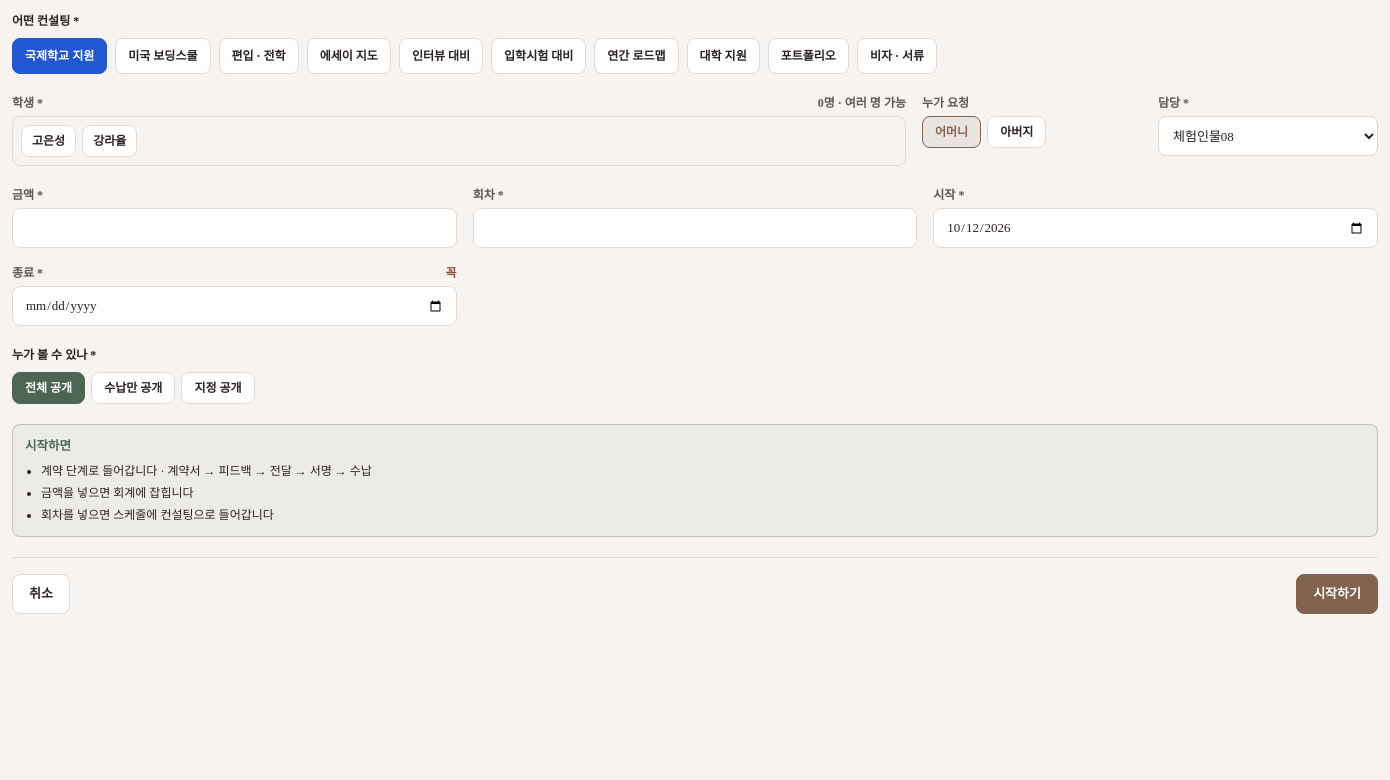
Test: ConsultingStartForm › 학생·날짜 순서·지정 공개 대상을 제출 전에 막는다
In the number field labelled "금액 *": (234, 228) [12, 208, 457, 248], type "1"
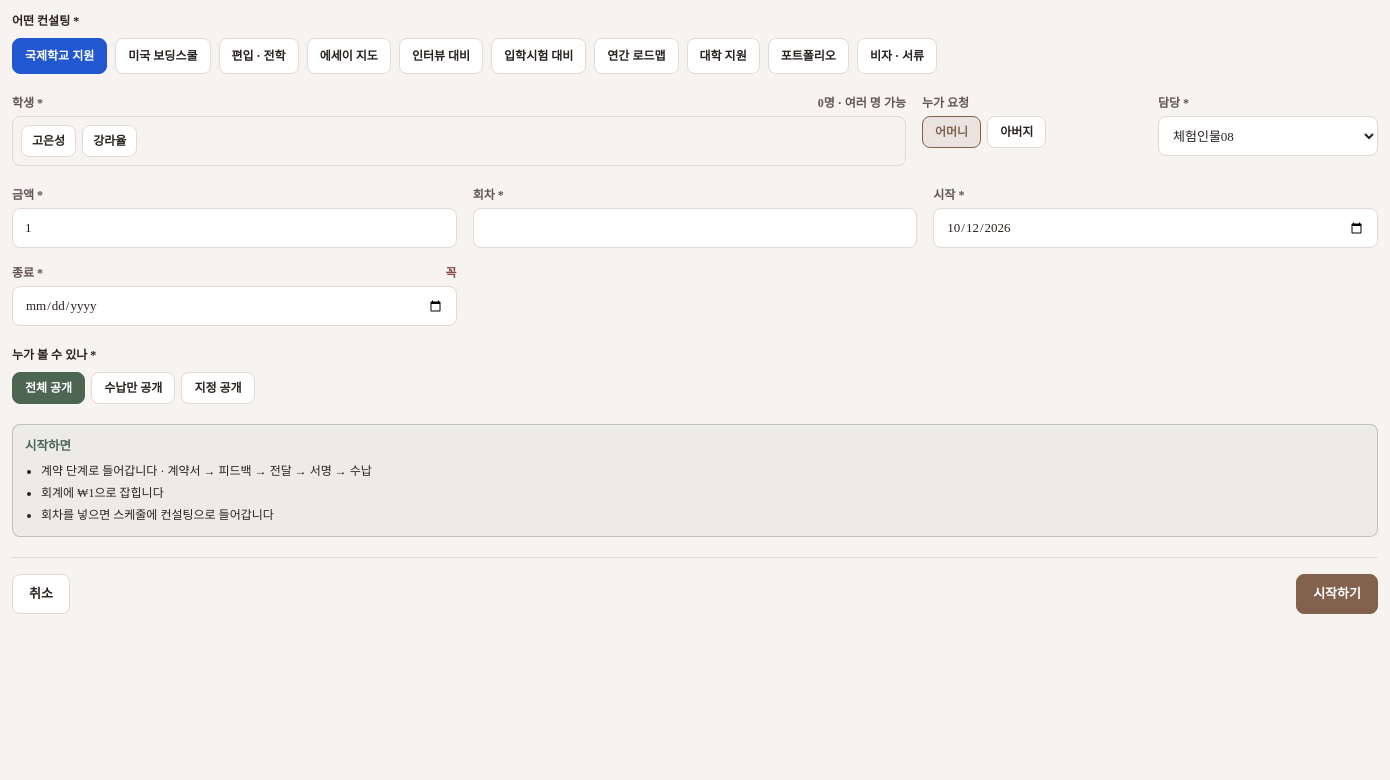
In the number field labelled "회차 *": (695, 228) [473, 208, 917, 248], type "1"
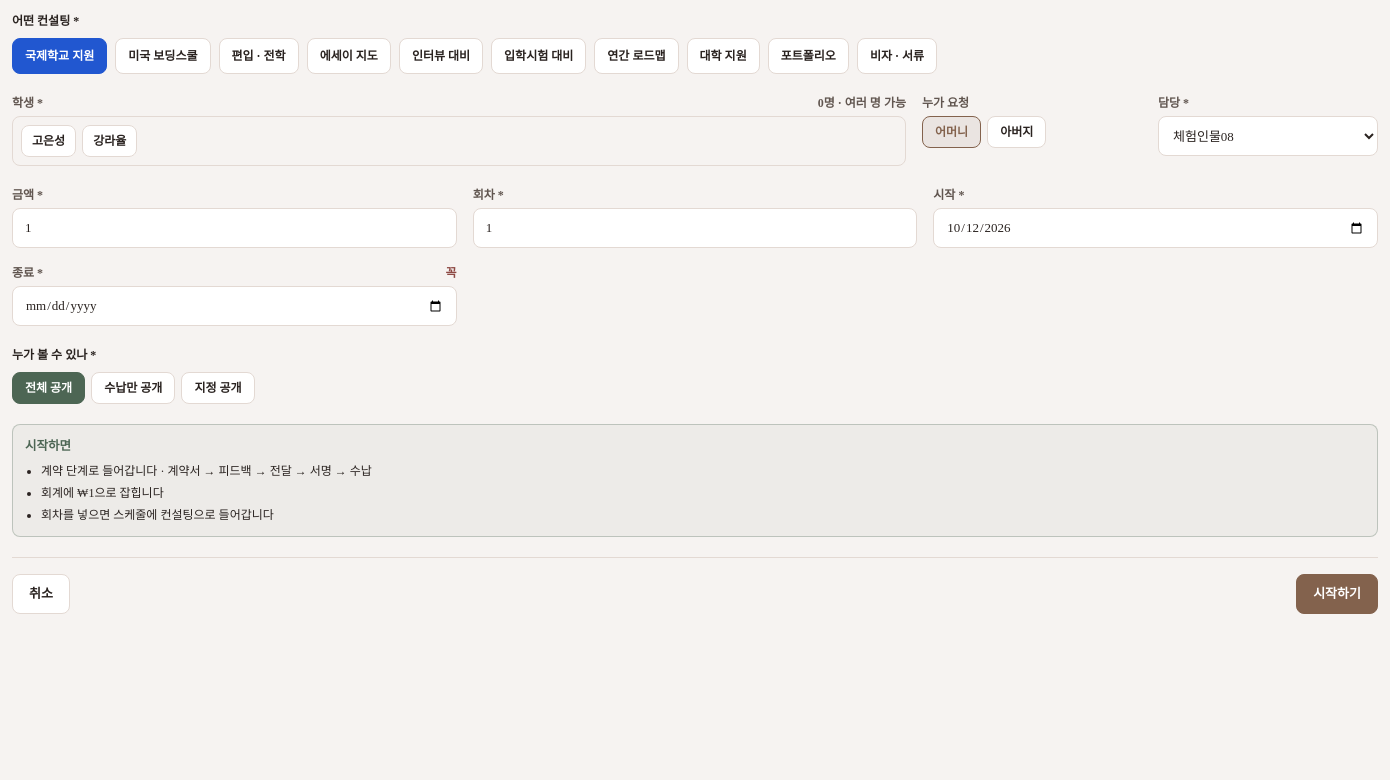
In the date field labelled "시작 *": (1156, 228) [933, 208, 1378, 248], type "2026-10-20"
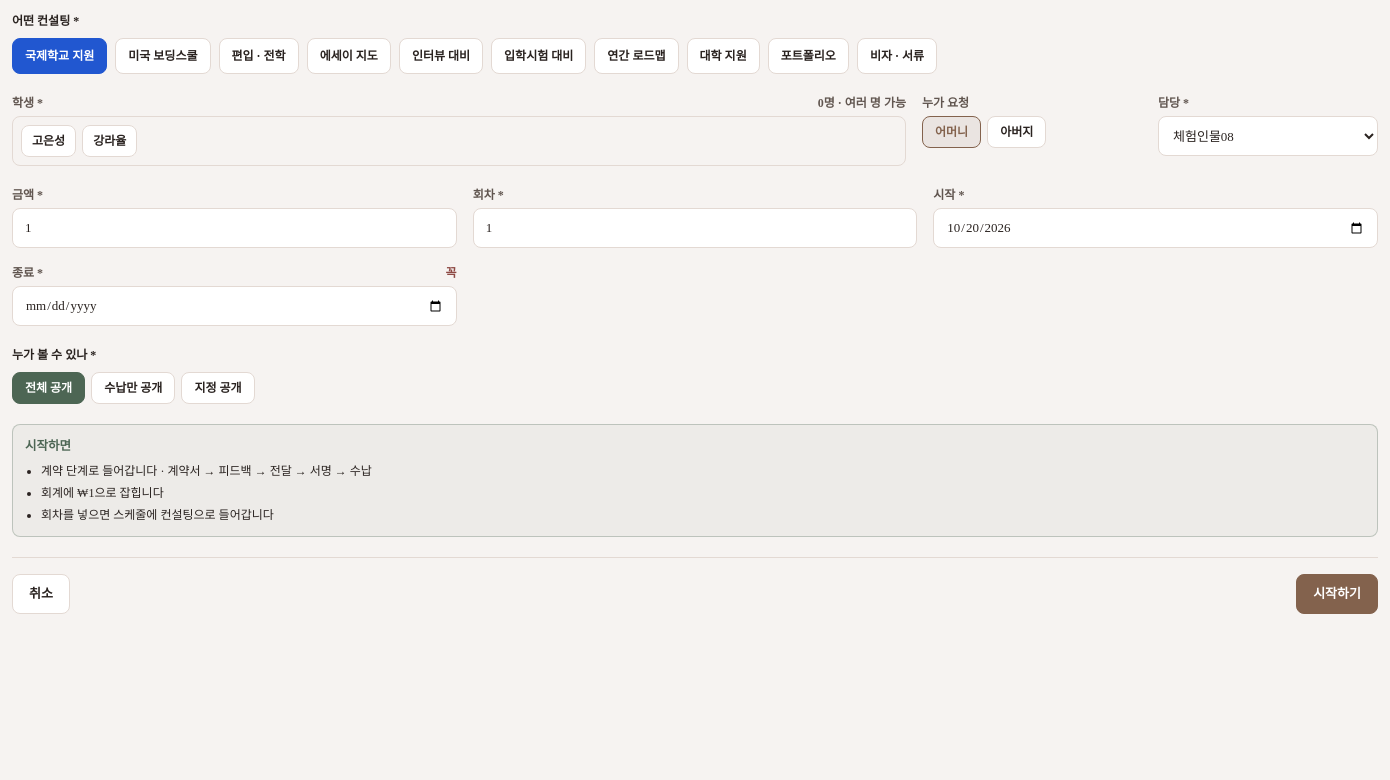
In the date field labelled "종료 *": (234, 306) [12, 286, 457, 326], type "2026-09-21"
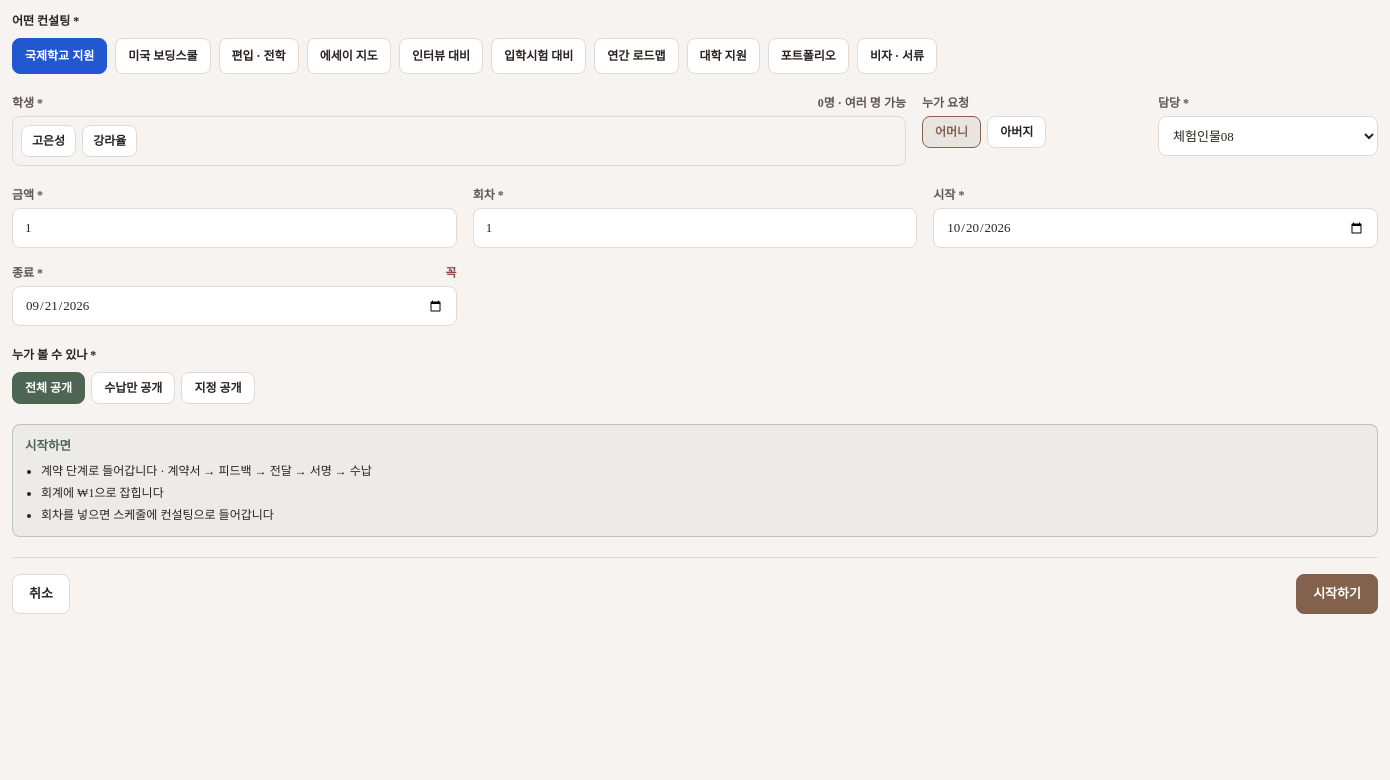
Submit the form
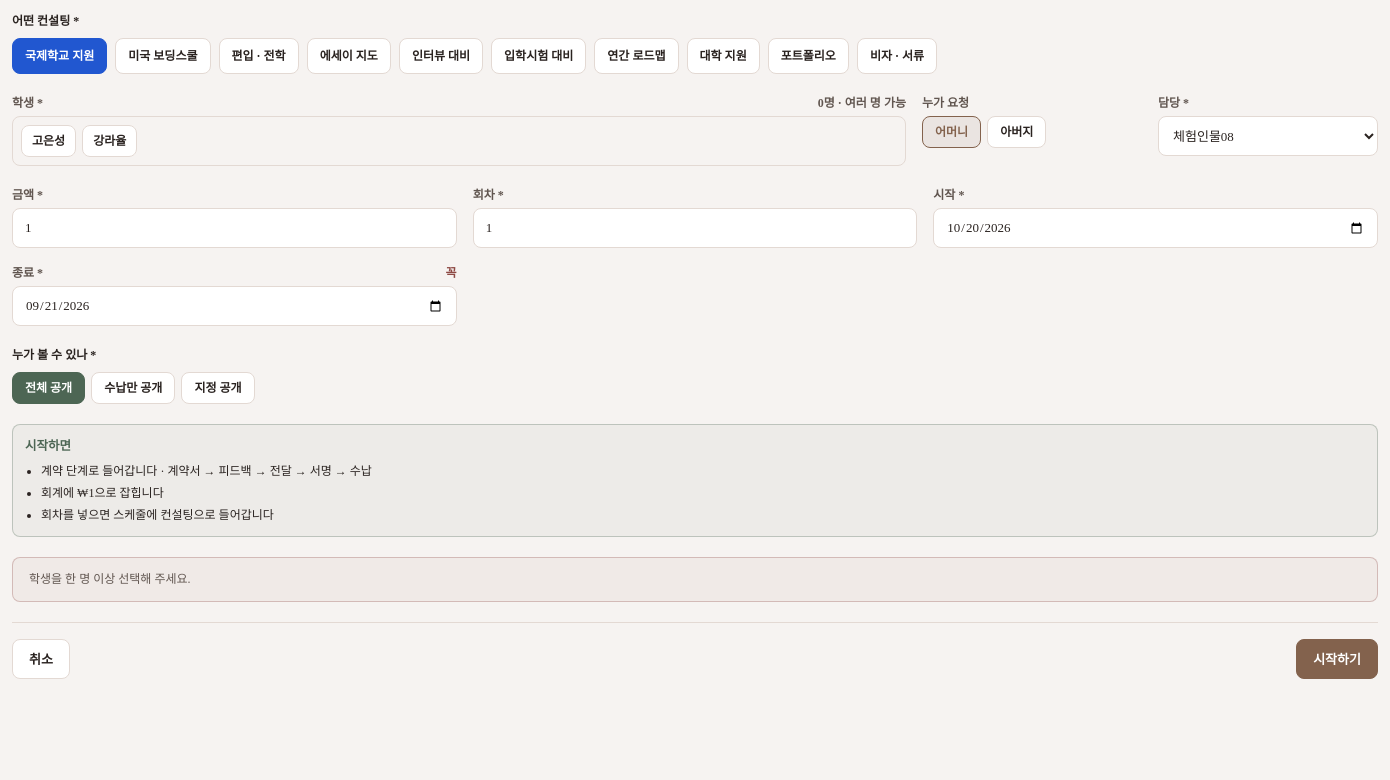
Check: the text "학생을 한 명 이상 선택해 주세요." is shown, box [12, 557, 1378, 602]
